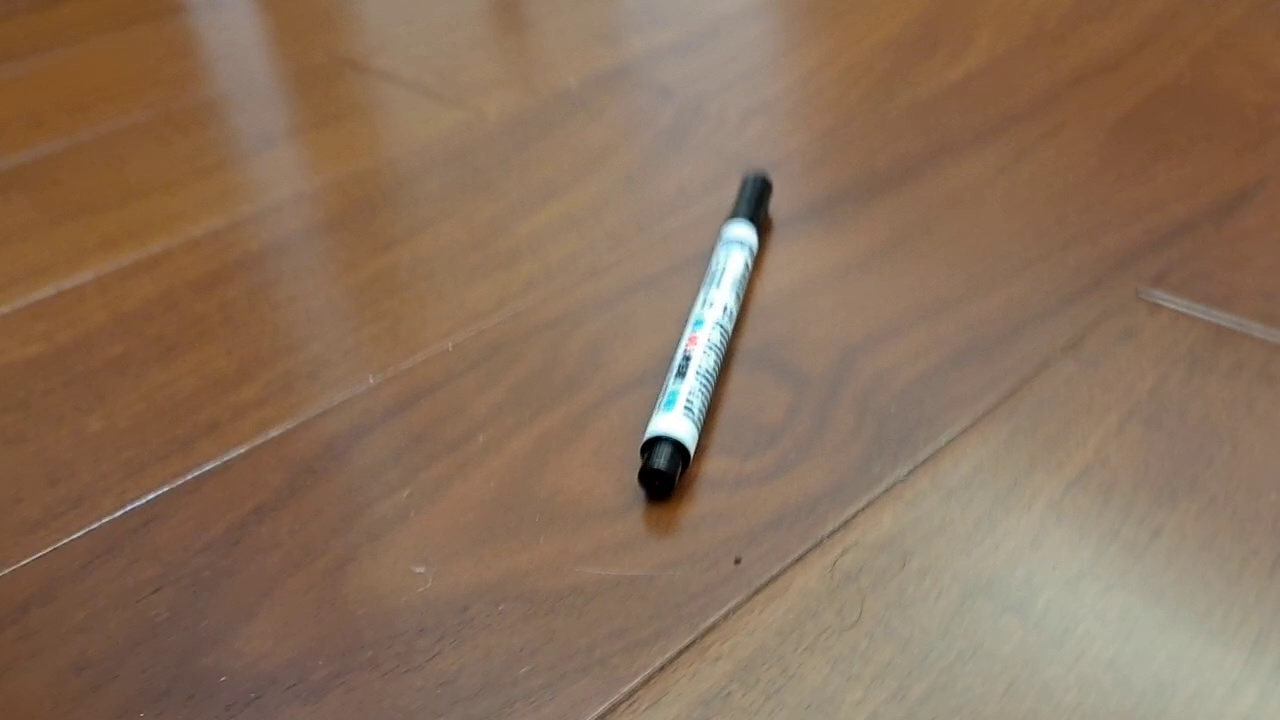pen: (637, 169, 774, 503)
